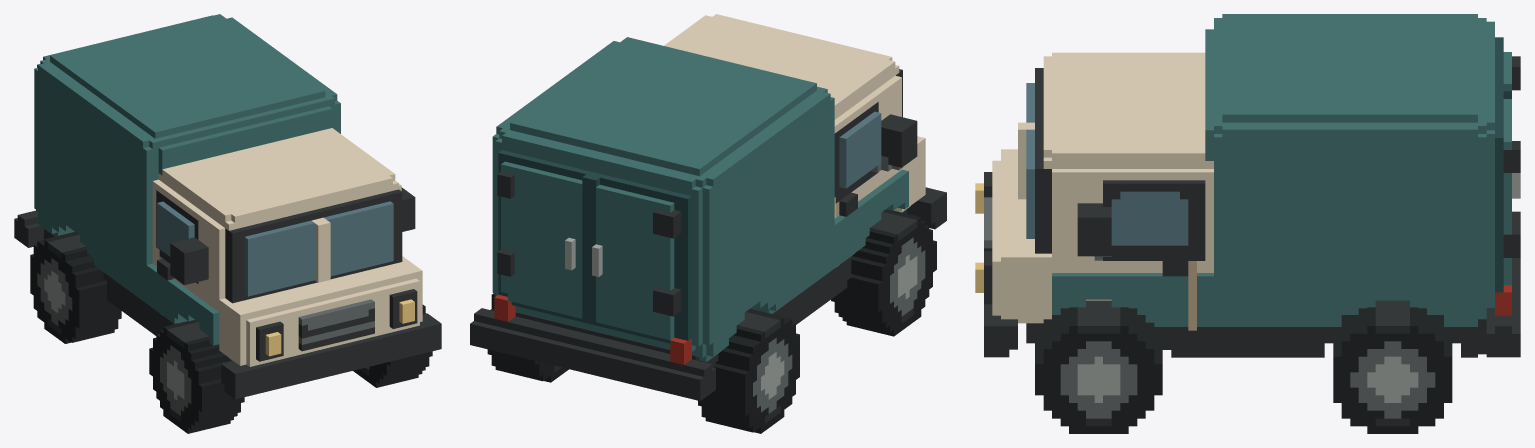
File: delivery_van.glb
The picture shows the model from 3 angles, left to right: view 1: azimuth 30°, elevation 25°; view 2: azimuth 150°, elevation 25°; view 3: azimuth 270°, elevation 25°; orthographic projection. The views are drawn at different scales.
Parts seen in each view (by area): view 1: delivery_van; view 2: delivery_van; view 3: delivery_van.
Part boxes in pixels (x1,y1,x2,y2): delivery_van: [14, 14, 441, 433]; delivery_van: [470, 14, 946, 433]; delivery_van: [975, 14, 1520, 433].
Bounding box in the file's own units: 2.66 × 2.73 × 4.48.
